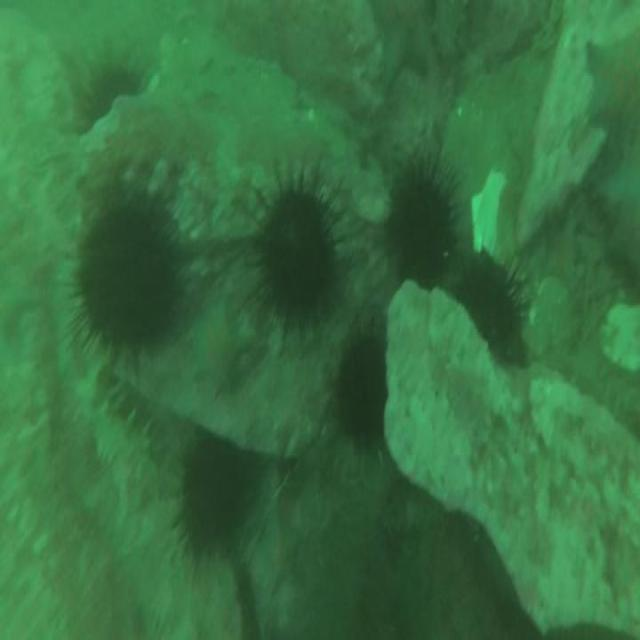echinus: (76, 202, 175, 348), (260, 182, 334, 311), (386, 169, 456, 285), (178, 447, 248, 550), (459, 254, 513, 350), (338, 343, 388, 439)
holothurian: (71, 375, 162, 515)
scallop: (603, 303, 640, 376)
starfish: (190, 302, 252, 392)
